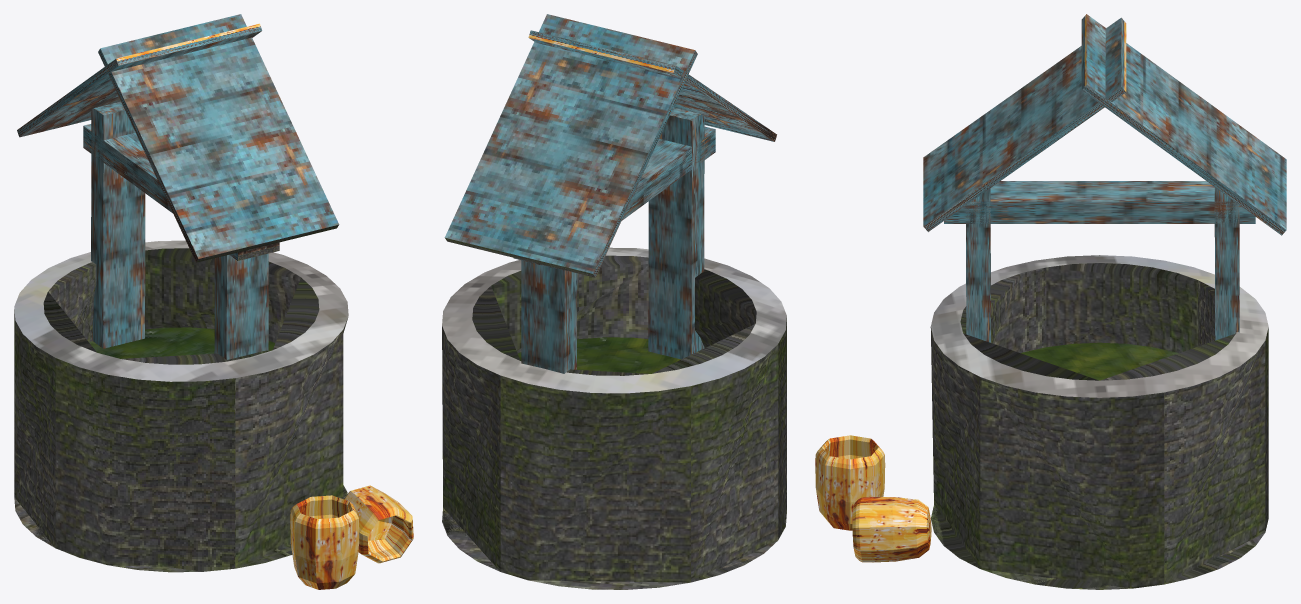
File: Well.fbx
3 views of the same model, side by side, from view 1: azimuth 30°, elevation 25°; view 2: azimuth 150°, elevation 25°; view 3: azimuth 270°, elevation 25° (orthographic). The views are drawn at different scales.
Parts seen in each view (by area): view 1: Circle, Cube, Cube.001; view 2: Circle; view 3: Circle, Cube, Cube.001.
Part boxes in pixels (x1,y1,x2,y2): Circle: (14,14,348,572); Cube: (290,495,359,589); Cube.001: (344,485,413,563); Circle: (442,14,786,589); Circle: (923,14,1286,589); Cube: (815,435,885,530); Cube.001: (852,497,931,562).
Size of the model in its own units: 200 by 306 by 279.
4 materials, 4 textured.
